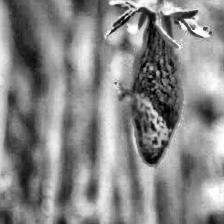Gray Mold: (104, 0, 212, 166)
